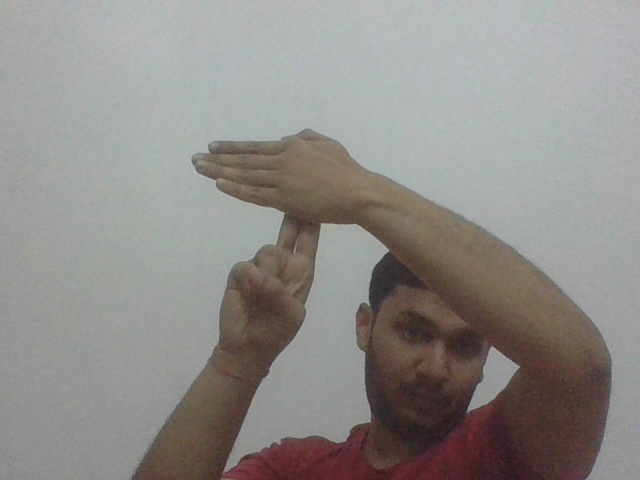N: (187, 126, 355, 254)
